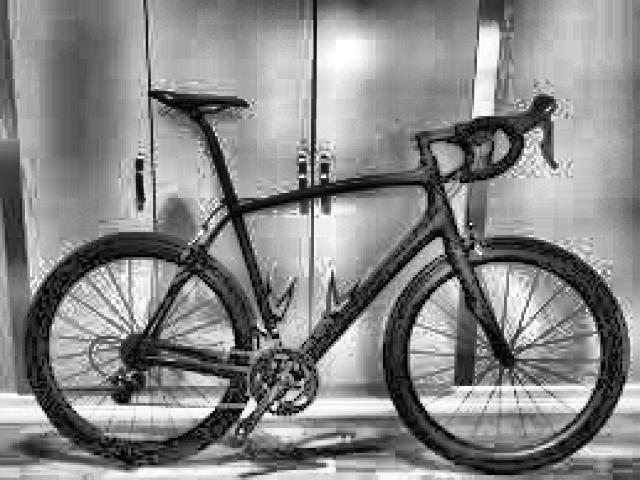cassette: (120, 332, 159, 371)
cranks_set: (236, 344, 321, 428)
pedal: (232, 420, 255, 441)
rear_derailleur: (106, 363, 149, 407)
saddle: (147, 84, 250, 115)
sti_shifter: (530, 93, 561, 172)
wheel: (380, 236, 630, 474), (20, 230, 262, 470)
